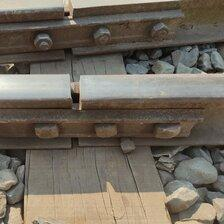railway-gap: (54, 75, 100, 112), (50, 0, 85, 28), (59, 130, 91, 156), (55, 45, 83, 64)
